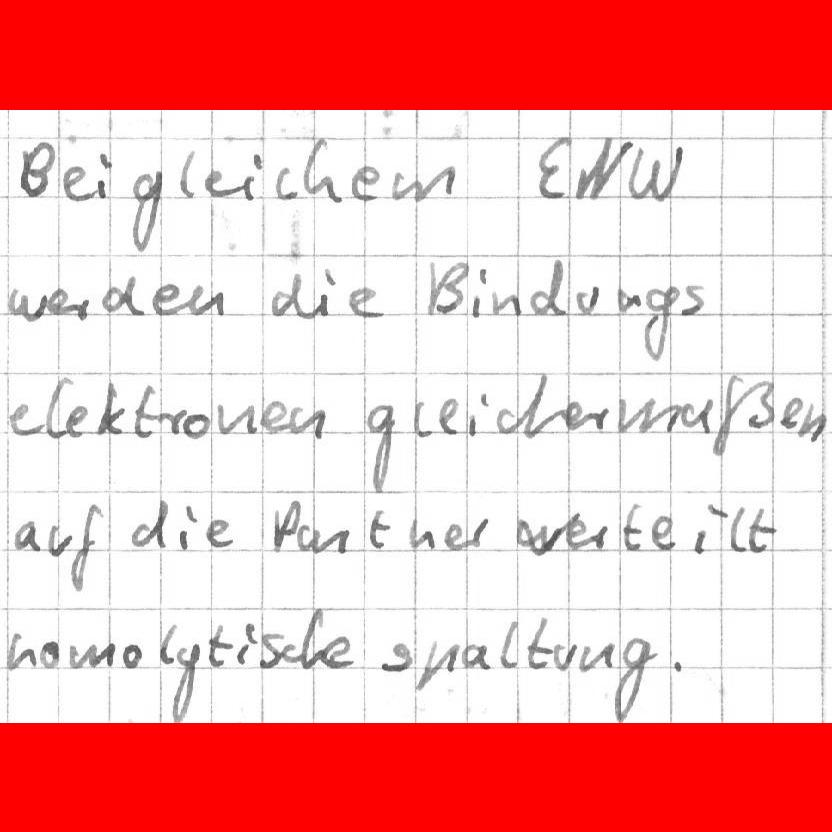Char: (710, 372, 776, 457), (610, 633, 655, 721), (575, 133, 629, 206), (629, 140, 686, 203), (362, 402, 398, 490), (69, 502, 105, 589), (128, 169, 163, 254), (522, 374, 564, 440), (390, 161, 456, 202), (617, 395, 682, 436), (641, 283, 675, 361), (170, 638, 199, 726), (413, 637, 459, 690), (303, 141, 342, 203), (535, 138, 571, 202), (429, 259, 468, 318), (515, 513, 566, 558), (18, 140, 53, 201), (130, 498, 169, 551), (528, 259, 565, 314), (100, 271, 144, 317), (43, 375, 73, 441), (691, 501, 727, 554), (300, 606, 329, 669), (67, 638, 117, 672), (271, 271, 305, 321), (6, 285, 47, 325), (99, 379, 127, 436), (271, 496, 298, 553), (564, 400, 609, 434), (236, 152, 265, 203), (133, 383, 159, 439), (746, 503, 773, 555), (184, 283, 225, 317), (216, 399, 253, 436), (526, 615, 550, 670), (289, 404, 325, 440), (5, 629, 36, 670), (621, 500, 645, 552), (150, 281, 184, 317), (577, 641, 615, 673), (347, 283, 381, 318), (176, 501, 199, 552), (61, 162, 90, 202), (177, 145, 198, 200), (682, 396, 715, 431), (315, 264, 336, 319), (8, 401, 39, 438), (379, 638, 410, 675), (350, 162, 379, 201), (312, 525, 348, 556), (207, 622, 230, 670), (324, 634, 354, 670), (498, 619, 519, 670), (437, 394, 463, 435), (368, 507, 392, 550), (203, 167, 234, 200), (235, 621, 257, 667), (46, 523, 74, 557), (650, 514, 675, 552), (158, 620, 179, 665), (493, 403, 520, 438), (467, 388, 486, 437), (205, 516, 233, 549), (12, 520, 39, 554), (261, 398, 287, 432), (471, 265, 488, 317), (680, 281, 705, 316), (462, 641, 490, 672), (63, 404, 88, 438), (491, 289, 520, 318), (411, 399, 432, 439), (778, 395, 802, 430), (273, 166, 297, 201), (575, 282, 600, 315), (568, 511, 588, 552), (95, 152, 112, 198), (552, 641, 578, 671), (184, 410, 211, 438), (409, 524, 437, 550), (467, 516, 487, 552), (729, 508, 746, 550), (260, 631, 279, 668), (295, 524, 319, 552), (39, 638, 61, 668), (808, 409, 829, 440), (616, 286, 641, 312), (161, 408, 184, 436), (121, 643, 144, 671), (588, 521, 610, 550), (443, 521, 464, 551), (68, 294, 93, 319), (48, 286, 68, 316), (280, 640, 300, 666), (669, 654, 687, 677)
